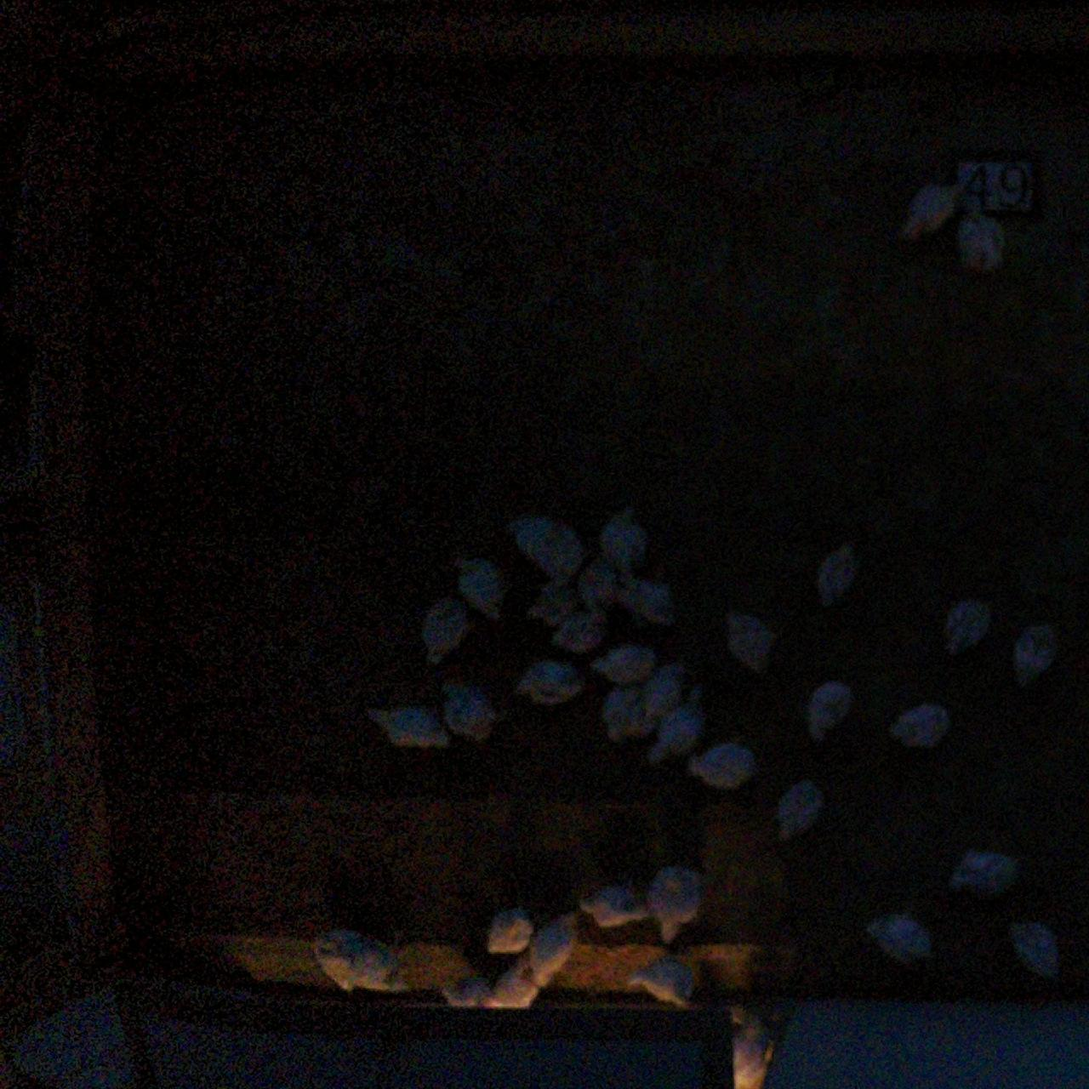chicken: (311, 918, 395, 998), (501, 507, 585, 582), (365, 693, 459, 759), (892, 168, 967, 248), (639, 861, 706, 949), (943, 840, 1025, 909), (679, 732, 764, 795), (510, 651, 594, 714), (948, 191, 1008, 279), (644, 688, 710, 766), (863, 906, 942, 971), (418, 588, 477, 673), (523, 909, 584, 990), (436, 672, 502, 746), (590, 498, 654, 574), (609, 565, 685, 629), (623, 952, 699, 1011), (881, 696, 958, 754), (720, 600, 779, 675), (475, 899, 543, 964), (939, 590, 1001, 660), (453, 547, 507, 627), (771, 773, 829, 847), (593, 682, 652, 754), (811, 536, 867, 611), (1006, 910, 1065, 981), (803, 674, 860, 745), (573, 877, 647, 931), (1008, 617, 1063, 688), (729, 1007, 777, 1086), (587, 640, 665, 686), (640, 662, 699, 722), (543, 603, 614, 651), (481, 957, 540, 1012), (522, 577, 582, 629), (569, 551, 620, 609), (437, 971, 489, 1008)
